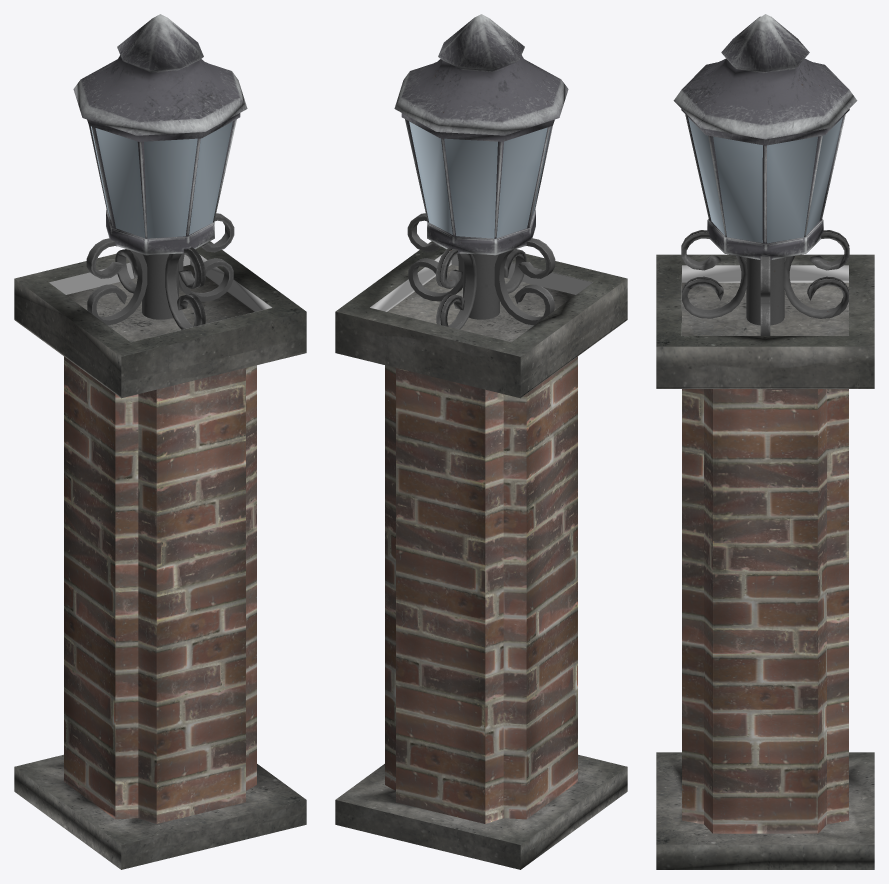
File: pole_small_01.fbx
3 views of the same model, side by side, from view 1: azimuth 30°, elevation 25°; view 2: azimuth 150°, elevation 25°; view 3: azimuth 270°, elevation 25° (orthographic).
Visible parts, largest first — view 1: pole_small_01, case_top_lamp03, glass_lamp03, case_bottom_lamp03, sides30_lamp03; view 2: pole_small_01, case_top_lamp03, glass_lamp03, case_bottom_lamp03, sides30_lamp03; view 3: pole_small_01, case_top_lamp03, glass_lamp03, case_bottom_lamp03, sides30_lamp03.
Boxes of the visible parts, x1,y1,x2,y2 form: pole_small_01: (14,213,306,869); case_top_lamp03: (73,14,247,141); glass_lamp03: (91,121,232,238); case_bottom_lamp03: (106,210,214,255); sides30_lamp03: (89,119,236,238); pole_small_01: (335,213,627,869); case_top_lamp03: (394,14,568,141); glass_lamp03: (409,121,550,238); case_bottom_lamp03: (427,210,535,255); sides30_lamp03: (405,119,552,238); pole_small_01: (656,230,874,869); case_top_lamp03: (673,14,857,145); glass_lamp03: (688,117,842,243); case_bottom_lamp03: (707,219,823,260); sides30_lamp03: (685,114,845,243).
Size of the model in its own units: 0.4044 by 0.4044 by 1.66.
Materials: 2 (2 with a texture image).
